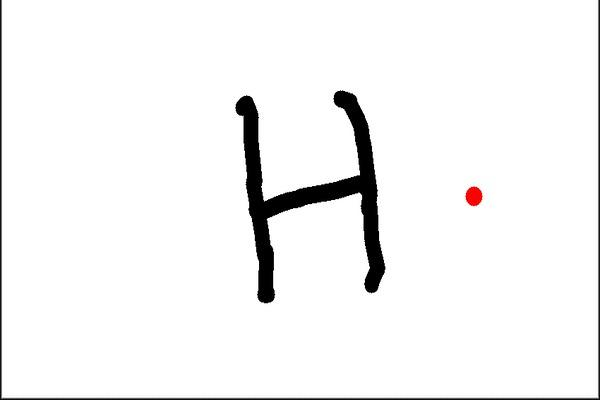H: (225, 83, 391, 308)
